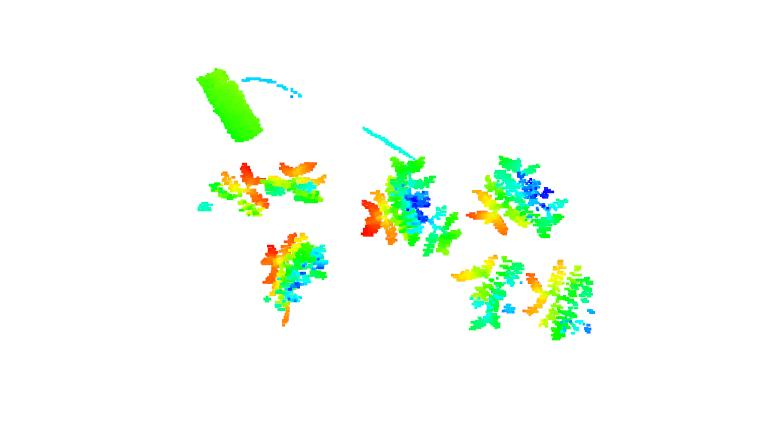chickpea: (362, 154, 460, 256), (468, 152, 564, 239), (524, 256, 597, 341), (452, 252, 522, 333), (260, 233, 329, 315), (193, 162, 270, 217), (266, 158, 326, 204)
